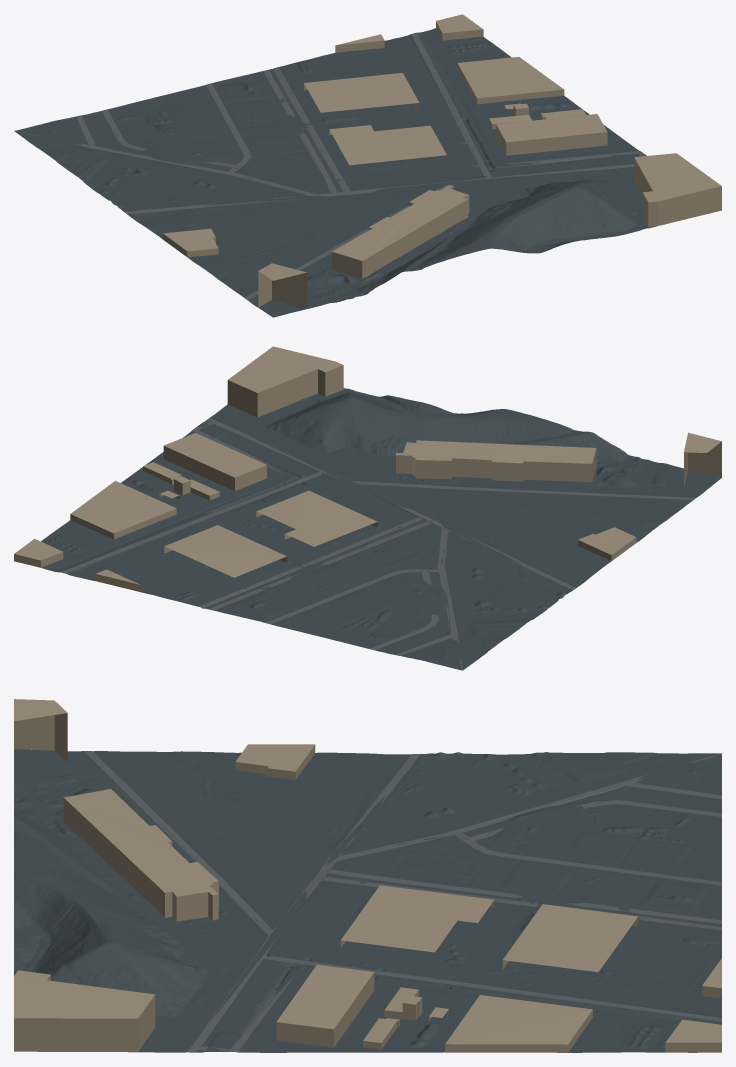
Rendered from epsg26910-1446-10873.lod0.glb.
3 views of the same model, one above another, from view 1: azimuth 30°, elevation 25°; view 2: azimuth 150°, elevation 25°; view 3: azimuth 270°, elevation 25° (orthographic). The views are drawn at different scales.
Visible parts, largest first — view 1: epsg26910-1446-10873-lod0; view 2: epsg26910-1446-10873-lod0; view 3: epsg26910-1446-10873-lod0.
Part boxes in pixels (x1,y1,x2,y2): epsg26910-1446-10873-lod0: (14,14,721,317); epsg26910-1446-10873-lod0: (14,346,721,670); epsg26910-1446-10873-lod0: (14,699,721,1052).
Size of the model in its own units: 384 by 34.34 by 384.
